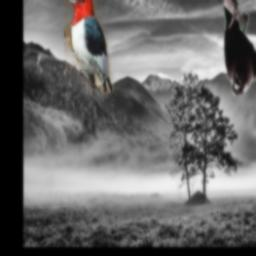Crow: (224, 0, 256, 97)
Woodpecker: (63, 0, 113, 93)
